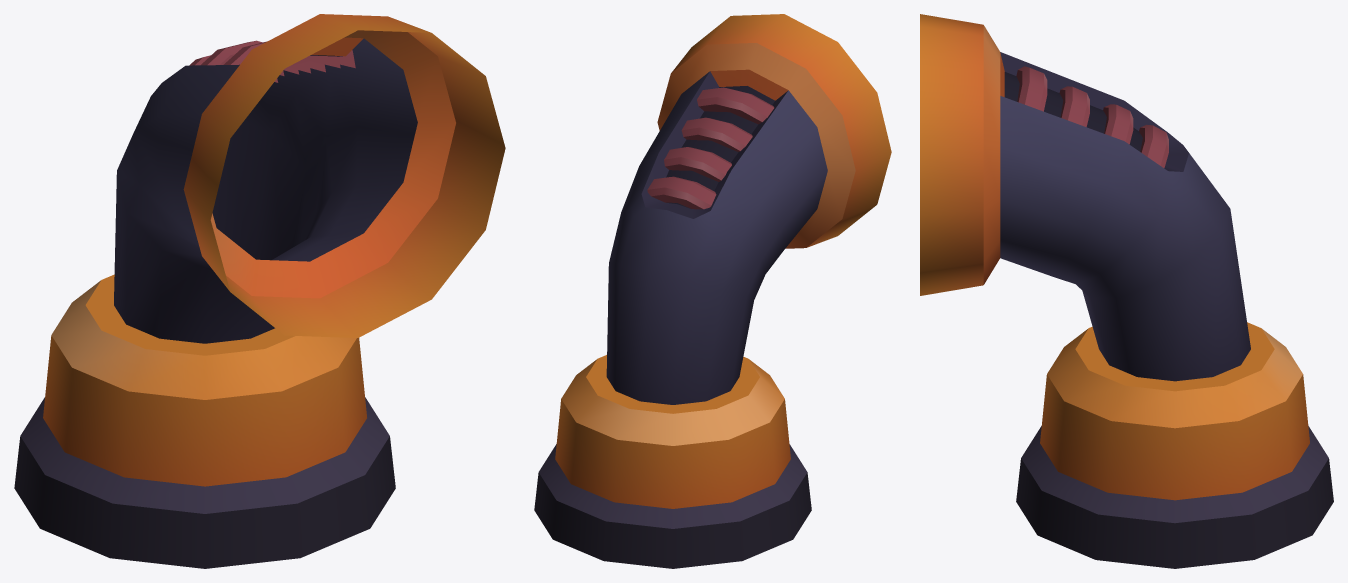
The model's file is SM_Decor_01.fbx.
The picture shows the model from 3 angles, left to right: view 1: azimuth 30°, elevation 25°; view 2: azimuth 150°, elevation 25°; view 3: azimuth 270°, elevation 25°; orthographic projection. The views are drawn at different scales.
Parts seen in each view (by area): view 1: SM_Decor_01; view 2: SM_Decor_01; view 3: SM_Decor_01.
Boxes of the visible parts, x1,y1,x2,y2 form: SM_Decor_01: [14, 14, 505, 568]; SM_Decor_01: [534, 14, 891, 568]; SM_Decor_01: [920, 14, 1333, 568].
Size of the model in its own units: 2.14 by 3.53 by 2.79.
